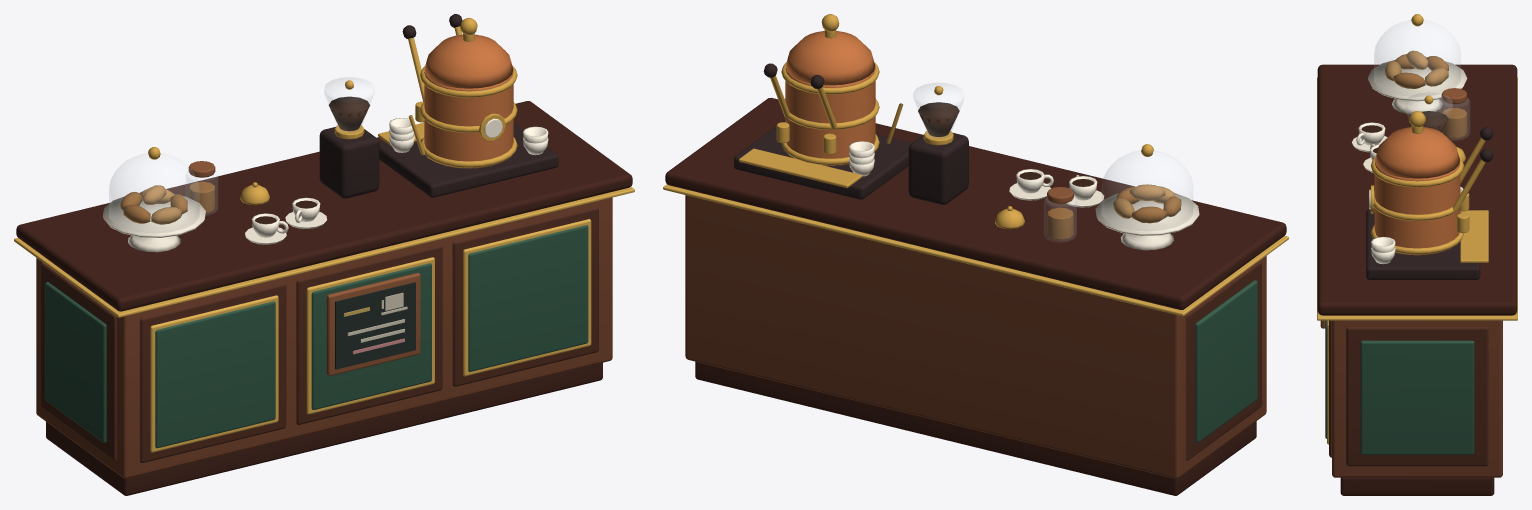
The model's file is coffee-bar.glb.
3 views of the same model, side by side, from view 1: azimuth 30°, elevation 25°; view 2: azimuth 150°, elevation 25°; view 3: azimuth 270°, elevation 25° (orthographic). The views are drawn at different scales.
Parts seen in each view (by area): view 1: coffee-bar; view 2: coffee-bar; view 3: coffee-bar.
Boxes of the visible parts, x1,y1,x2,y2 form: coffee-bar: (14, 14, 634, 495); coffee-bar: (663, 14, 1288, 495); coffee-bar: (1317, 14, 1517, 495).
Bounding box in the file's own units: 2.01 × 1.32 × 0.705.
